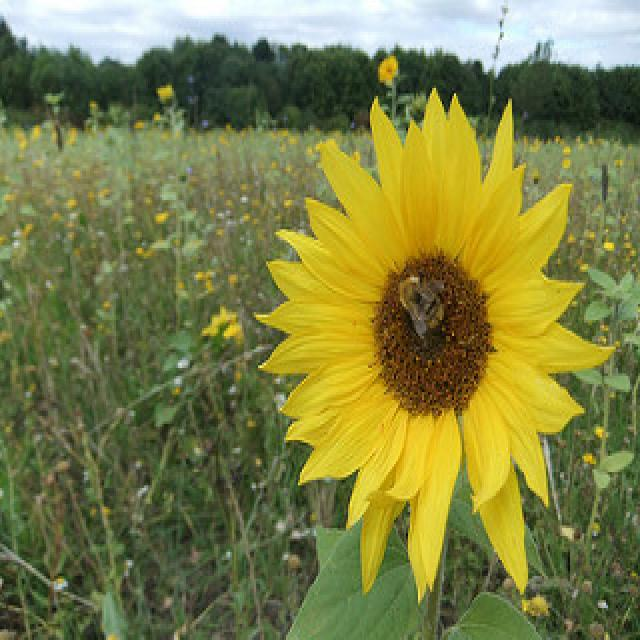sunflower: (268, 105, 584, 580)
